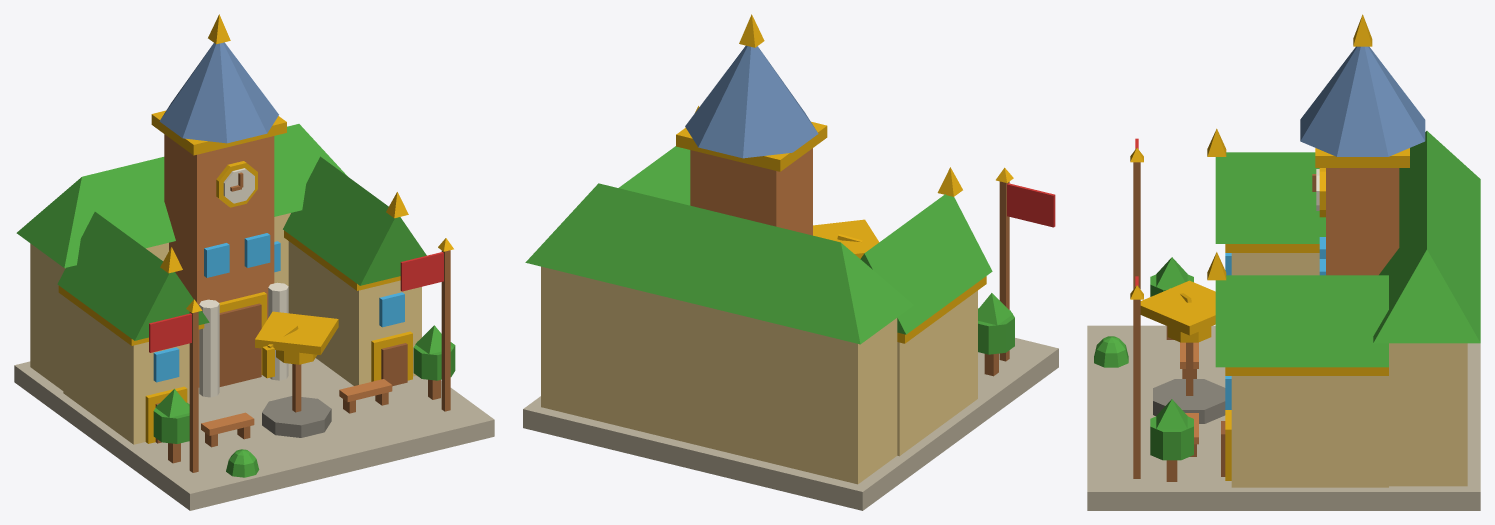
Rendered from university_t3_v2.glb.
3 views of the same model, side by side, from view 1: azimuth 30°, elevation 25°; view 2: azimuth 150°, elevation 25°; view 3: azimuth 270°, elevation 25° (orthographic). The views are drawn at different scales.
Parts seen in each view (by area): view 1: university_t3_v2; view 2: university_t3_v2; view 3: university_t3_v2.
Boxes of the visible parts, x1=… form: university_t3_v2: x1=14, y1=14, x2=494, y2=510; university_t3_v2: x1=523, y1=14, x2=1058, y2=510; university_t3_v2: x1=1087, y1=14, x2=1480, y2=510.
Size of the model in its own units: 0.795 by 0.87 by 0.75.
1 material, 1 textured.
